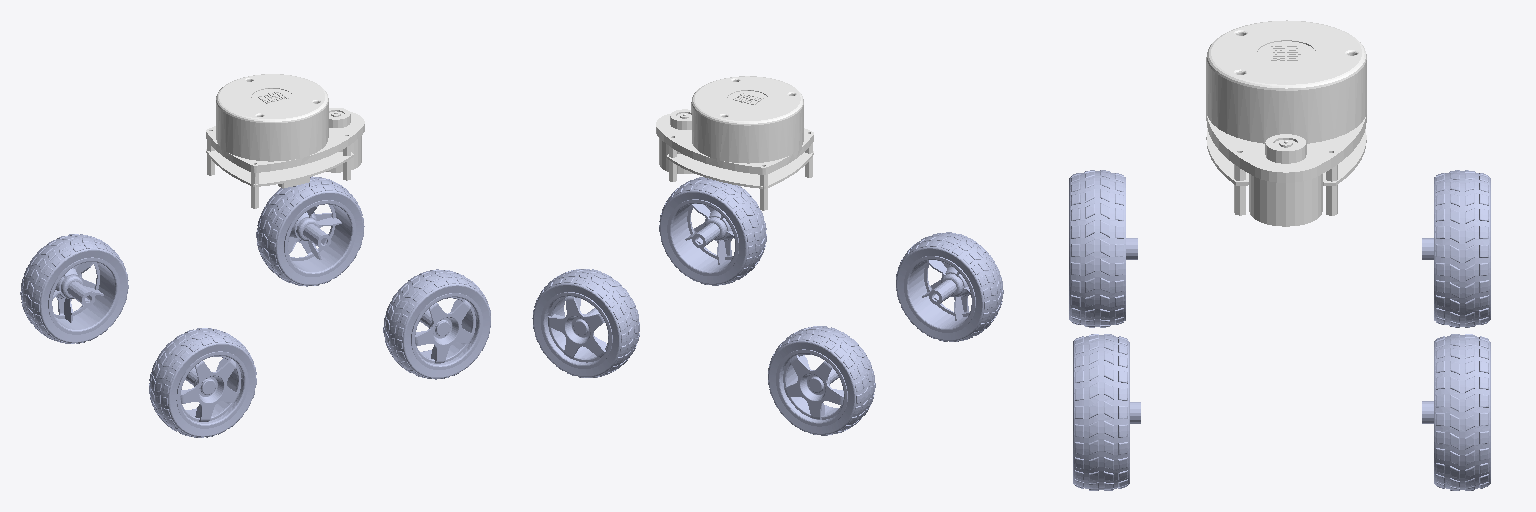
The robot description file, URDF, robot "BamBoBot_urdf":
<?xml version="1.0" encoding="utf-8"?>
<!-- This URDF was automatically created by SolidWorks to URDF Exporter! Originally created by
[author] ([email redacted]) 
     Commit Version: 1.5.1-0-g916b5db  Build Version: 1.5.7152.31018
     For more information, please see http://wiki.ros.org/sw_urdf_exporter -->
<robot
  name="BamBoBot_urdf">
  <link
    name="base_footprint">

    <inertial>
      <origin
        xyz="-0.0044537 0.00054543 0.065213"
        rpy="0 0 0" />
      <mass
        value="0.51315" />
      <inertia
        ixx="0.00030965"
        ixy="-4.1668E-07"
        ixz="-9.824E-09"
        iyy="0.0011198"
        iyz="-3.1935E-09"
        izz="0.0013997" />
    </inertial>

    <visual>
      <origin
        xyz="0 0 0"
        rpy="0 0 0" />
      <geometry>
        <mesh
          filename="package://BamBoBot_robot/meshes/base_footprint.STL" />
      </geometry>
      <material
        name="">
        <color
          rgba="0.8 0.8 0.8 1" />
      </material>
    </visual>
    <collision>
      <origin
        xyz="0 0 0"
        rpy="0 0 0" />
      <geometry>
        <mesh
          filename="package://BamBoBot_robot/meshes/base_footprint.STL" />
      </geometry>
    </collision>
  </link>

  <link
    name="Wheel1_link">
    <inertial>
      <origin
        xyz="-4.457E-09 -2.3661E-10 -0.011873"
        rpy="0 0 0" />
      <mass
        value="0.021403" />
      <inertia
        ixx="8.6276E-06"
        ixy="1.9097E-13"
        ixz="-2.5077E-15"
        iyy="8.6271E-06"
        iyz="2.1262E-14"
        izz="1.4513E-05" />
    </inertial>
    <visual>
      <origin
        xyz="0 0 0"
        rpy="0 0 0" />
      <geometry>
        <mesh
          filename="package://BamBoBot_robot/meshes/Wheel1_link.STL" />
      </geometry>
      <material
        name="">
        <color
          rgba="0.79216 0.81961 0.93333 1" />
      </material>
    </visual>
    <collision>
      <origin
        xyz="0 0 0"
        rpy="0 0 0" />
      <geometry>
        <mesh
          filename="package://BamBoBot_robot/meshes/Wheel1_link.STL" />
      </geometry>
    </collision>
  </link>
  <joint
    name="Wheel1_joint"
    type="continuous">
    <origin
      xyz="-0.0845 -0.093 0.03396"
      rpy="1.5708 -0.41487 0" />
    <parent
      link="base_footprint" />
    <child
      link="Wheel1_link" />
    <axis
      xyz="0 0 -1" />
    <limit
      effort="100"
      velocity="100" />
    <dynamics
      damping="0.1"
      friction="0.1" />
  </joint>
  <link
    name="Wheel4_link">
    <inertial>
      <origin
        xyz="-4.47967409000771E-09 -2.00088563773182E-10 -0.0118729796550801"
        rpy="0 0 0" />
      <mass
        value="0.0214028332272462" />
      <inertia
        ixx="8.62757650974969E-06"
        ixy="1.91216291508845E-13"
        ixz="-4.86484019015035E-15"
        iyy="8.62710486607564E-06"
        iyz="1.65263287059379E-14"
        izz="1.45133171586975E-05" />
    </inertial>
    <visual>
      <origin
        xyz="0 0 0"
        rpy="0 0 0" />
      <geometry>
        <mesh
          filename="package://BamBoBot_robot/meshes/Wheel4_link.STL" />
      </geometry>
      <material
        name="">
        <color
          rgba="0.792156862745098 0.819607843137255 0.933333333333333 1" />
      </material>
    </visual>
    <collision>
      <origin
        xyz="0 0 0"
        rpy="0 0 0" />
      <geometry>
        <mesh
          filename="package://BamBoBot_robot/meshes/Wheel4_link.STL" />
      </geometry>
    </collision>
  </link>
  <joint
    name="Wheel4_joint"
    type="continuous">
    <origin
      xyz="0.0845 -0.0914 0.03396"
      rpy="1.5708 -0.43724 0" />
    <parent
      link="base_footprint" />
    <child
      link="Wheel4_link" />
    <axis
      xyz="0 0 -1" />
    <limit
      effort="100"
      velocity="100" />
    <dynamics
      damping="0.1"
      friction="0.1" />
  </joint>
  <link
    name="Wheel3_link">
    <inertial>
      <origin
        xyz="-4.51335598061764E-09 -2.62405278061983E-10 -0.0118729796549858"
        rpy="0 0 0" />
      <mass
        value="0.021402833225506" />
      <inertia
        ixx="8.62757650976568E-06"
        ixy="1.9109224941001E-13"
        ixz="3.63428269949823E-15"
        iyy="8.62710486560369E-06"
        iyz="1.74119520997636E-14"
        izz="1.45133171582482E-05" />
    </inertial>
    <visual>
      <origin
        xyz="0 0 0"
        rpy="0 0 0" />
      <geometry>
        <mesh
          filename="package://BamBoBot_robot/meshes/Wheel3_link.STL" />
      </geometry>
      <material
        name="">
        <color
          rgba="0.792156862745098 0.819607843137255 0.933333333333333 1" />
      </material>
    </visual>
    <collision>
      <origin
        xyz="0 0 0"
        rpy="0 0 0" />
      <geometry>
        <mesh
          filename="package://BamBoBot_robot/meshes/Wheel3_link.STL" />
      </geometry>
    </collision>
  </link>
  <joint
    name="Wheel3_joint"
    type="continuous">
    <origin
      xyz="-0.0845 0.0912 0.03396"
      rpy="-1.5708 0.094735 0" />
    <parent
      link="base_footprint" />
    <child
      link="Wheel3_link" />
    <axis
      xyz="0 0 -1" />
    <limit
      effort="100"
      velocity="100" />
    <dynamics
      damping="0.1"
      friction="0.1" />
  </joint>
  <link
    name="Wheel2_link">
    <inertial>
      <origin
        xyz="-4.53444783804491E-09 -2.48747952791284E-10 -0.0118729796550119"
        rpy="0 0 0" />
      <mass
        value="0.0214028332249902" />
      <inertia
        ixx="8.62757650973741E-06"
        ixy="1.91238453278877E-13"
        ixz="3.53400033359113E-15"
        iyy="8.62710486536401E-06"
        iyz="1.43850105367816E-14"
        izz="1.45133171579871E-05" />
    </inertial>
    <visual>
      <origin
        xyz="0 0 0"
        rpy="0 0 0" />
      <geometry>
        <mesh
          filename="package://BamBoBot_robot/meshes/Wheel2_link.STL" />
      </geometry>
      <material
        name="">
        <color
          rgba="0.792156862745098 0.819607843137255 0.933333333333333 1" />
      </material>
    </visual>
    <collision>
      <origin
        xyz="0 0 0"
        rpy="0 0 0" />
      <geometry>
        <mesh
          filename="package://BamBoBot_robot/meshes/Wheel2_link.STL" />
      </geometry>
    </collision>
  </link>
  <joint
    name="Wheel2_joint"
    type="continuous">
    <origin
      xyz="0.0845 0.0912 0.03396"
      rpy="1.5708 0.96948 -3.1416" />
    <parent
      link="base_footprint" />
    <child
      link="Wheel2_link" />
    <axis
      xyz="0 0 -1" />
    <limit
      effort="100"
      velocity="100" />
    <dynamics
      damping="0.1"
      friction="0.1" />
  </joint>
  <link
    name="lidar_link">
    <inertial>
      <origin
        xyz="0 0 0"
        rpy="0 0 0" />
      <mass
        value="0" />
      <inertia
        ixx="0"
        ixy="0"
        ixz="0"
        iyy="0"
        iyz="0"
        izz="0" />
    </inertial>
    <visual>
      <origin
        xyz="0 0 0"
        rpy="0 0 0" />
      <geometry>
        <mesh
          filename="package://BamBoBot_robot/meshes/lidar_link.STL" />
      </geometry>
      <material
        name="">
        <color
          rgba="1 1 1 1" />
      </material>
    </visual>
    <collision>
      <origin
        xyz="0 0 0"
        rpy="0 0 0" />
      <geometry>
        <mesh
          filename="package://BamBoBot_robot/meshes/lidar_link.STL" />
      </geometry>
    </collision>
  </link>
  <joint
    name="lidar_joint"
    type="revolute">
    <origin
      xyz="0.027171 0.0019102 0.14081"
      rpy="1.5708 0 -0.0062994" />
    <parent
      link="base_footprint" />
    <child
      link="lidar_link" />
    <axis
      xyz="0 -1 0" />
    <limit
      lower="0"
      upper="0"
      effort="0"
      velocity="0" />
  </joint>
</robot>

--- What the picture shows (computed from the rendered views, not written in the file) ---
3 views of the same robot in one strip: view 1: azimuth 30°, elevation 25°; view 2: azimuth 150°, elevation 25°; view 3: azimuth 270°, elevation 25° (orthographic).
Robot: BamBoBot_urdf — 6 links, 5 joints (1 revolute, 4 continuous); root link base_footprint; default pose: every joint at zero.
Visible links, largest first — view 1: lidar_link, Wheel3_link, Wheel1_link, Wheel4_link, Wheel2_link; view 2: lidar_link, Wheel1_link, Wheel3_link, Wheel2_link, Wheel4_link; view 3: lidar_link, Wheel2_link, Wheel1_link, Wheel3_link, Wheel4_link.
Link boxes in pixels (box(x1,y1,x2,y2)): lidar_link: box(206, 74, 364, 208); Wheel3_link: box(20, 234, 128, 343); Wheel1_link: box(149, 328, 256, 437); Wheel4_link: box(383, 269, 490, 379); Wheel2_link: box(256, 176, 364, 286); lidar_link: box(656, 76, 813, 210); Wheel1_link: box(896, 232, 1003, 341); Wheel3_link: box(768, 326, 875, 435); Wheel2_link: box(532, 269, 639, 377); Wheel4_link: box(659, 177, 766, 285); lidar_link: box(1206, 20, 1366, 226); Wheel2_link: box(1422, 334, 1490, 490); Wheel1_link: box(1069, 170, 1137, 327); Wheel3_link: box(1422, 170, 1490, 327); Wheel4_link: box(1073, 334, 1140, 490).
Size in the robot's own frame: 0.2379 by 0.1842 by 0.1744 metres.
Meshes: 6 distinct files referenced, 5 mesh visuals loaded (5 binary STL); not drawn: 1 (file found but could not be loaded).